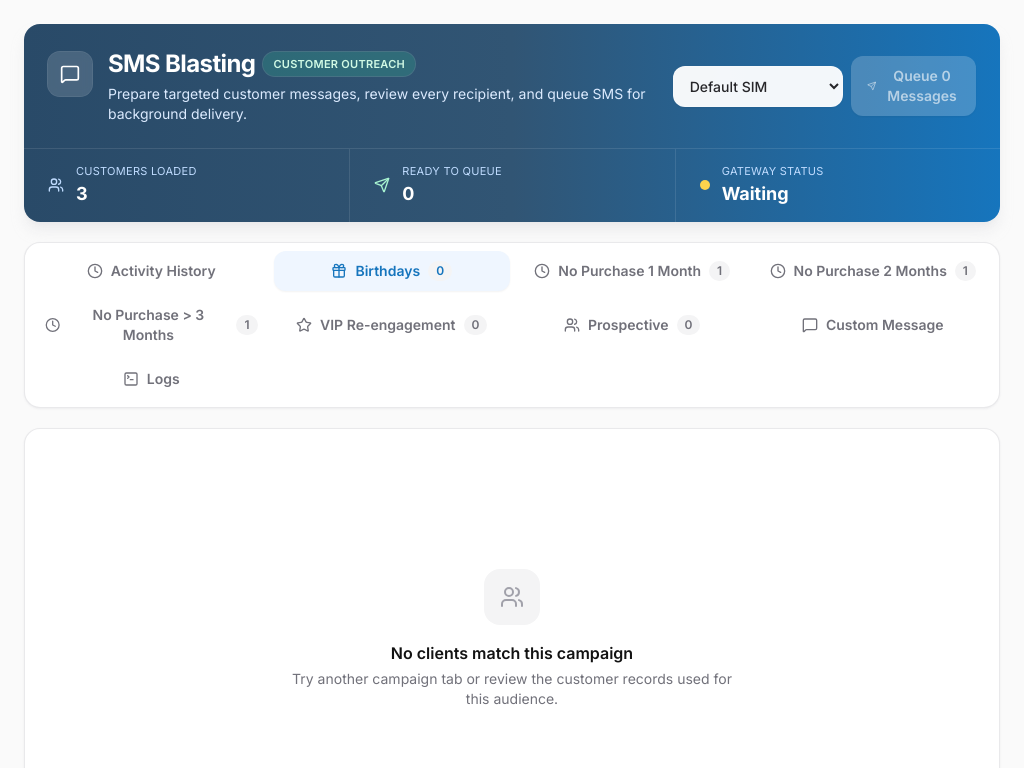
Test: SmsCampaignPreparationView › splits no-purchase customers into three ranges and applies each saved template
Click the button "No Purchase 1 Month 1" at [632, 270], box [514, 250, 750, 290]
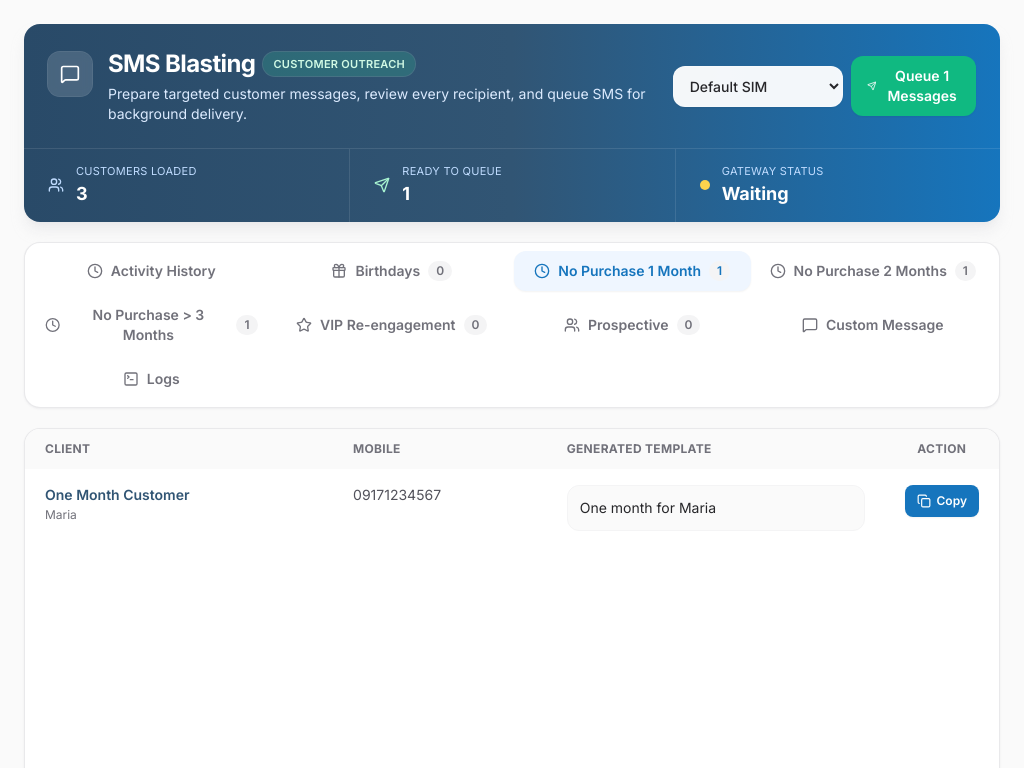
Expected: the text "Two Months Customer" is not shown
Expected: the text "One month for Maria" is shown, [567, 484, 864, 530]
Expected: the text "One Month Customer" is shown, [45, 486, 190, 502]
Click the button "No Purchase 2 Months 1" at [873, 270], box [754, 250, 991, 290]
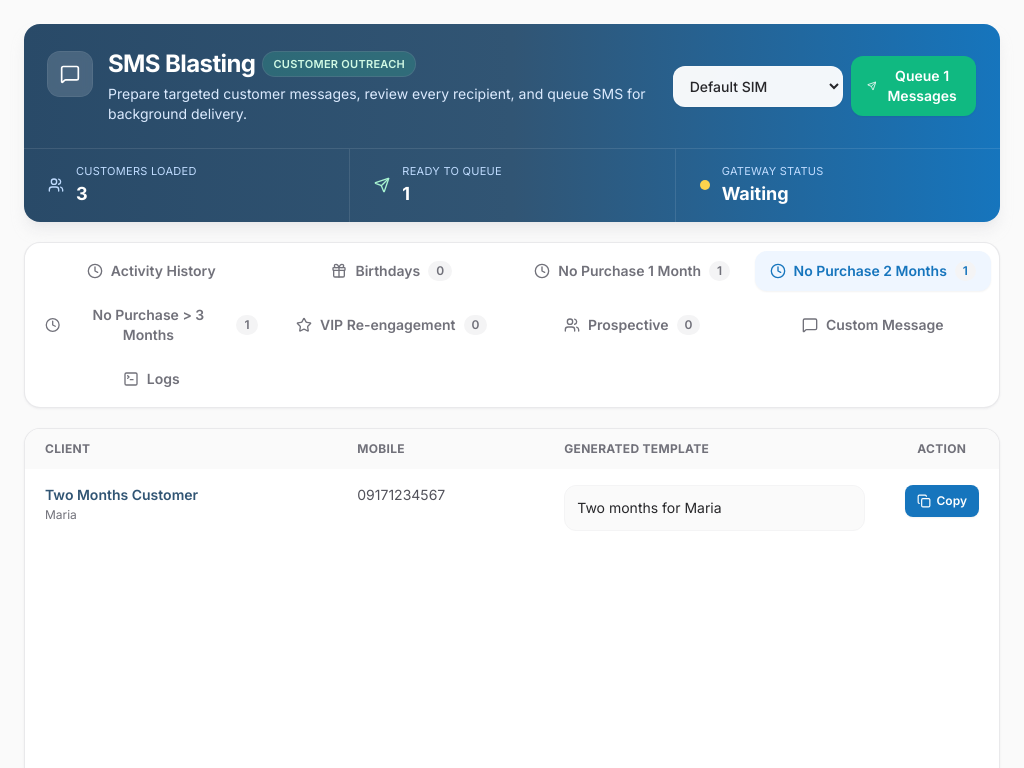
Expected: the text "Three Plus Months Customer" is not shown
Expected: the text "Two months for Maria" is shown, [564, 484, 865, 530]
Expected: the text "Two Months Customer" is shown, [45, 486, 198, 502]
Click the button "No Purchase > 3 Months 1" at [151, 324], box [33, 294, 270, 354]
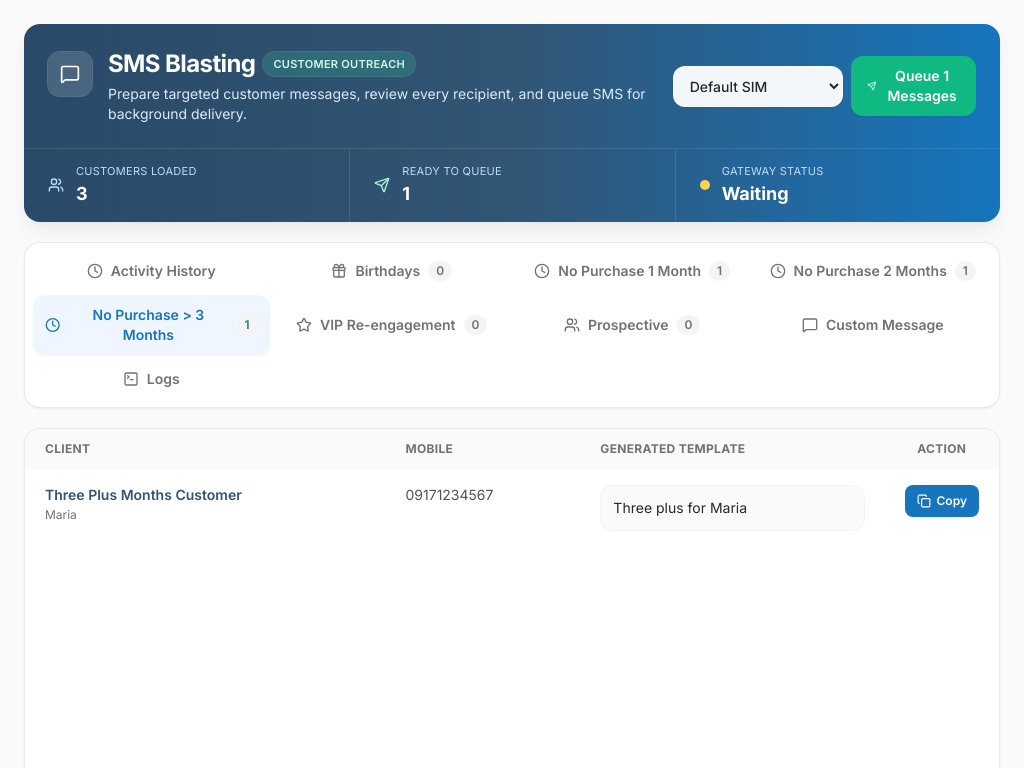
Expected: the text "Three plus for Maria" is shown, [600, 484, 865, 530]
Expected: the text "Three Plus Months Customer" is shown, [45, 486, 242, 502]
